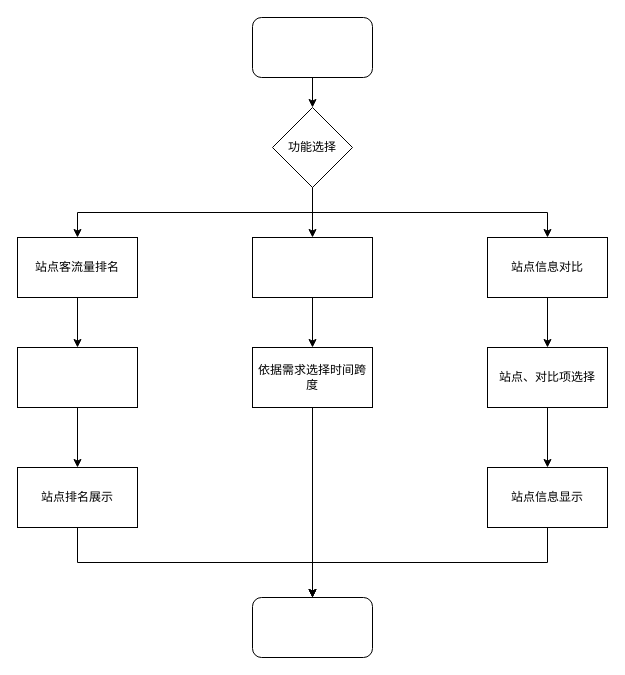
Some shapes in this 625 by 675 pixel diagram are drawn without their labels. Each missing label, with the centre of its shape:
"全系统客流趋势" goes at (312,267).
"开始" goes at (312,47).
"时间、对比项选择" goes at (77,377).
"结束" goes at (312,627).
